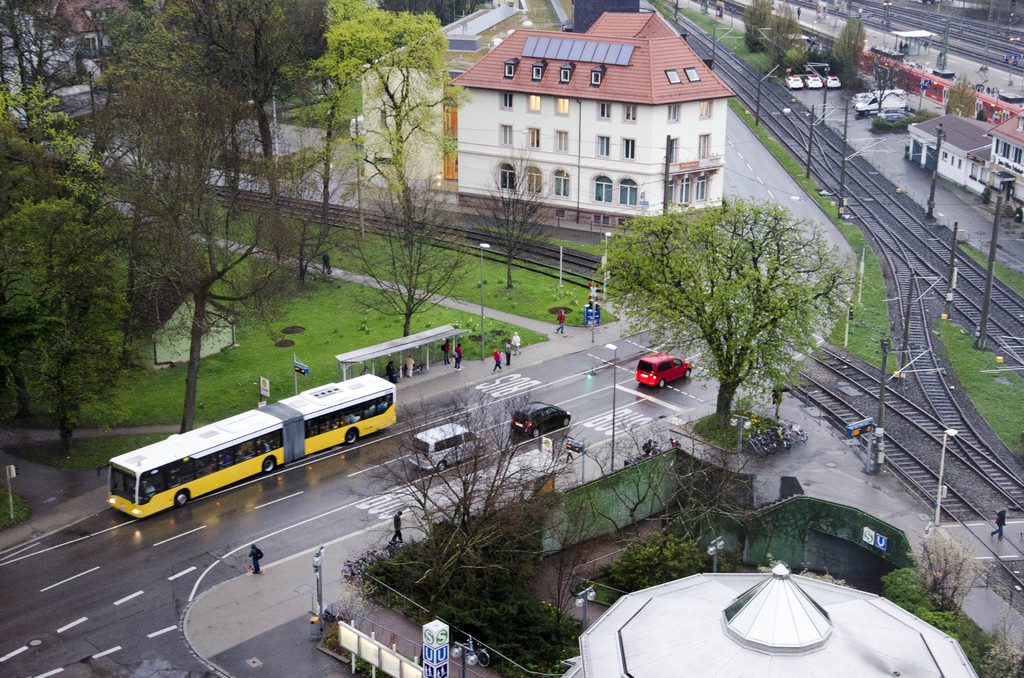Bus: (94, 373, 399, 521)
